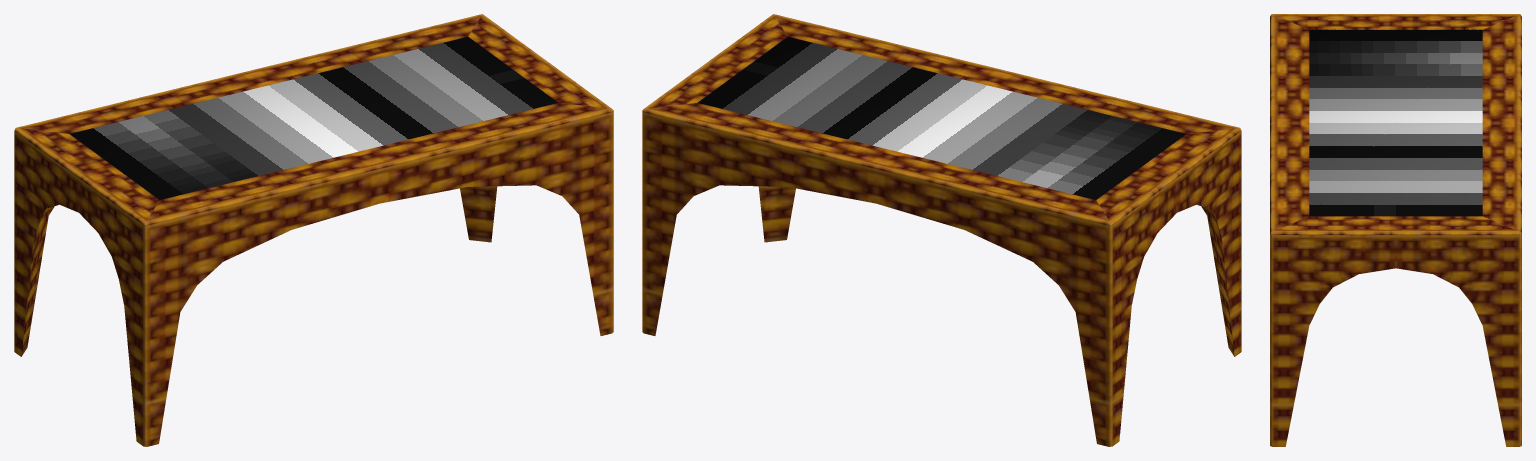
The model's file is rmk_rst_tableM.dae.
3 renders of one model, left to right at view 1: azimuth 30°, elevation 25°; view 2: azimuth 150°, elevation 25°; view 3: azimuth 270°, elevation 25°, orthographic. The views are drawn at different scales.
Parts seen in each view (by area): view 1: rmk_rst_tableM; view 2: rmk_rst_tableM; view 3: rmk_rst_tableM.
Boxes of the visible parts, left/top/right/bottom form: rmk_rst_tableM: left=14, top=14, right=613, bottom=446; rmk_rst_tableM: left=642, top=14, right=1241, bottom=446; rmk_rst_tableM: left=1270, top=14, right=1521, bottom=446.
Bounding box in the file's own units: 52.8 × 24 × 25.6.
Materials: 2 (2 with a texture image).
